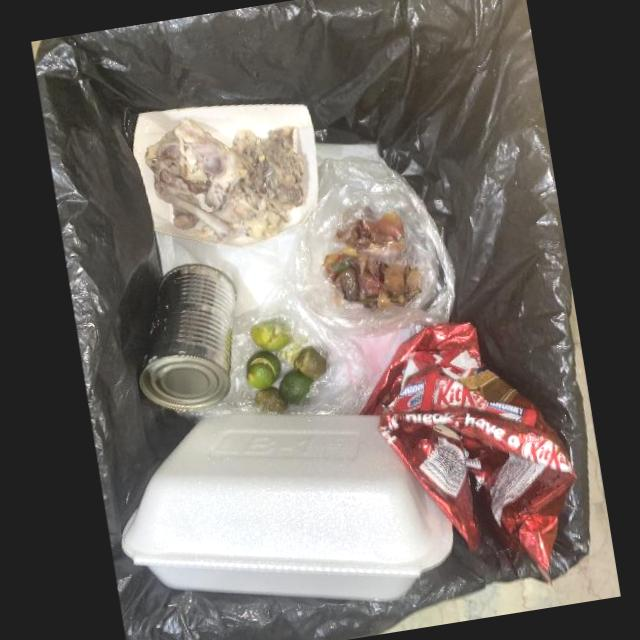bao_bi_thuc_pham: (359, 321, 576, 582)
carton: (132, 102, 319, 247)
nhom: (138, 262, 237, 411)
thuc_an_thua: (145, 118, 305, 245), (324, 212, 422, 308), (280, 341, 327, 378), (245, 350, 281, 389), (281, 368, 312, 405), (251, 324, 291, 351), (253, 387, 288, 413)
tui_ni_long: (284, 155, 456, 337), (177, 292, 369, 417)
xop: (119, 409, 455, 600)
